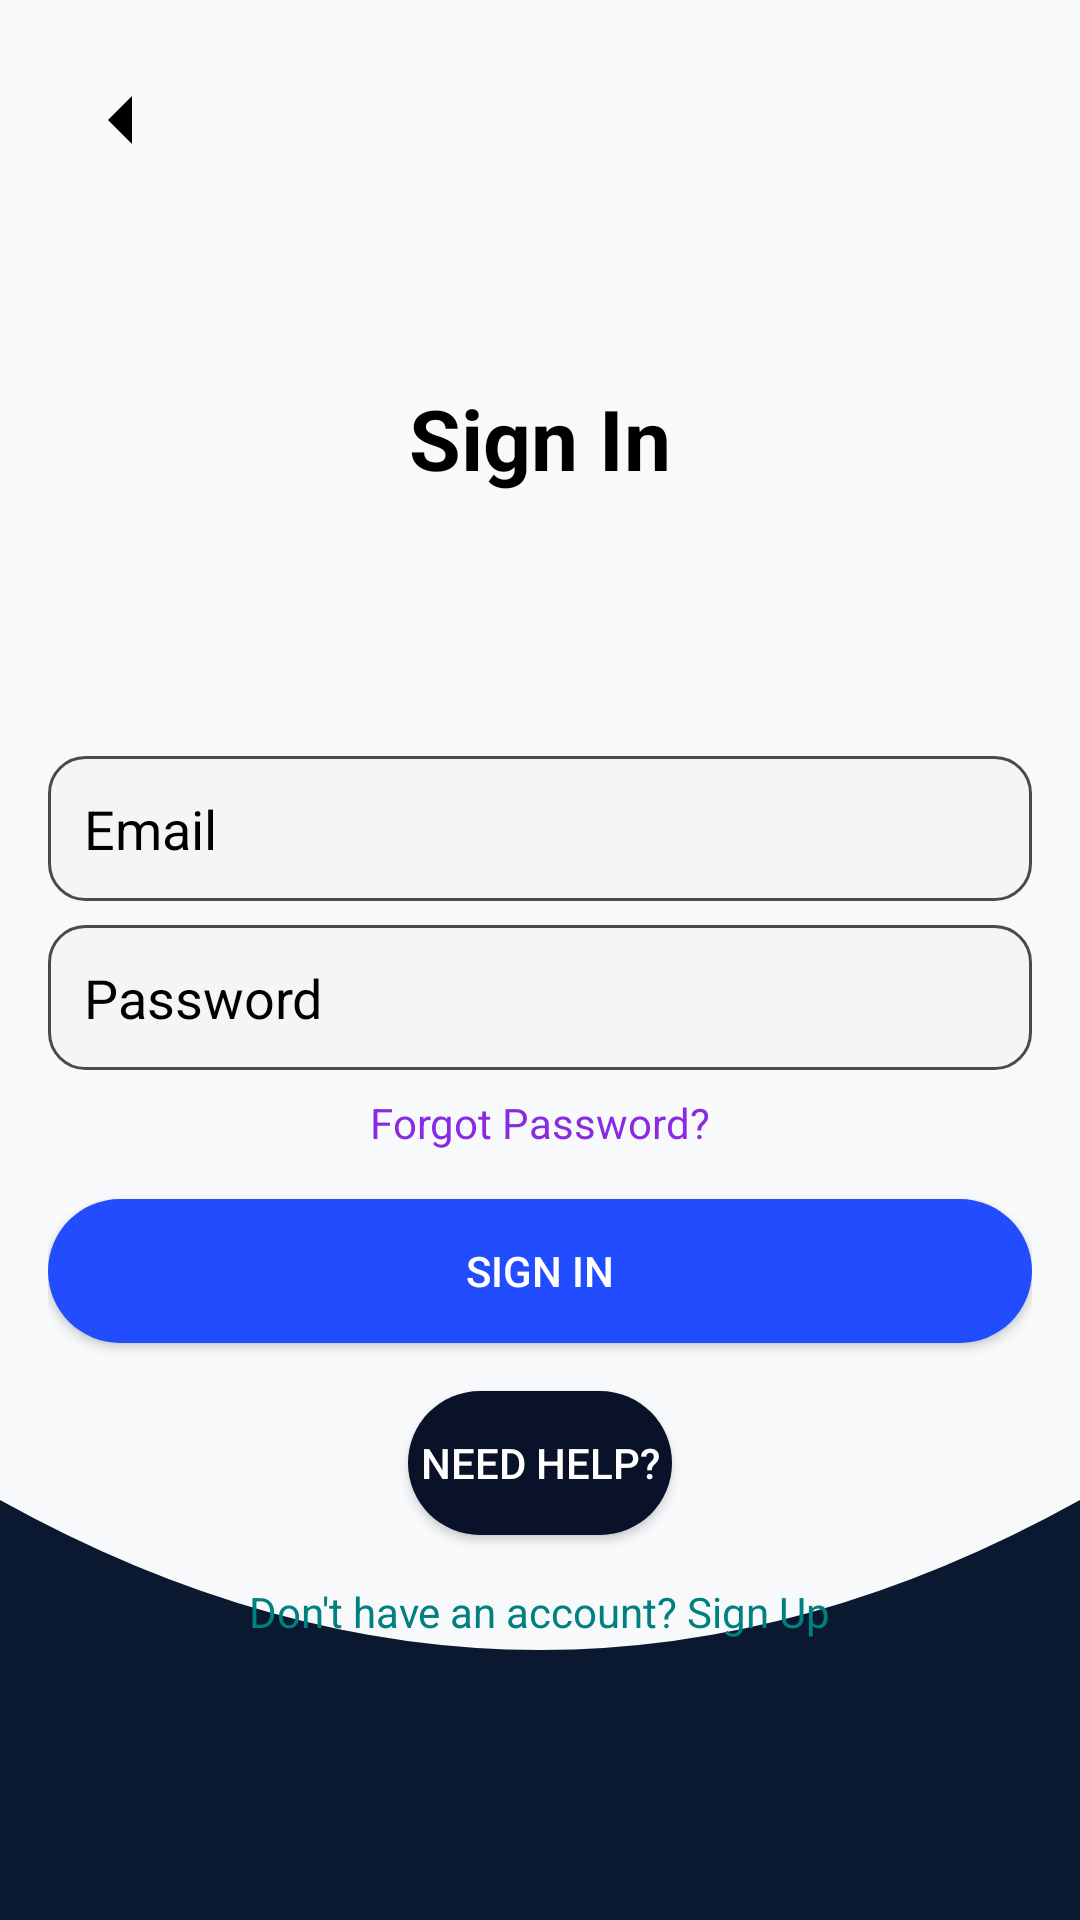

Icon bounding boxes for this 1080w x 1920h phone screenshot, format (x1, y1, x2, y2):
Back: (108, 96, 132, 144)
